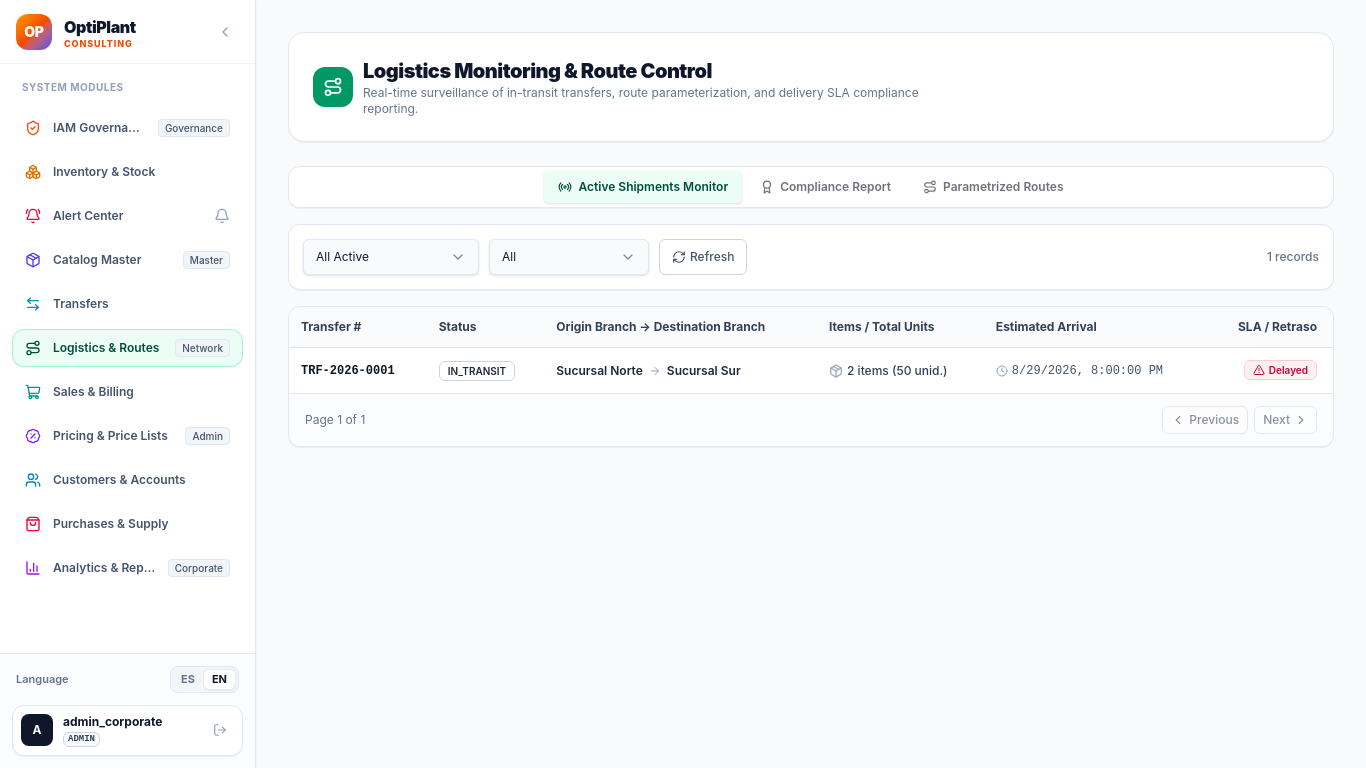
Test case: LogisticsDashboard Component Tests › displays Parametrized Routes tab for ADMIN user (CU-LOG-01)
Click the tab "Parametrized Routes" at point(993, 187), box [909, 171, 1078, 203]
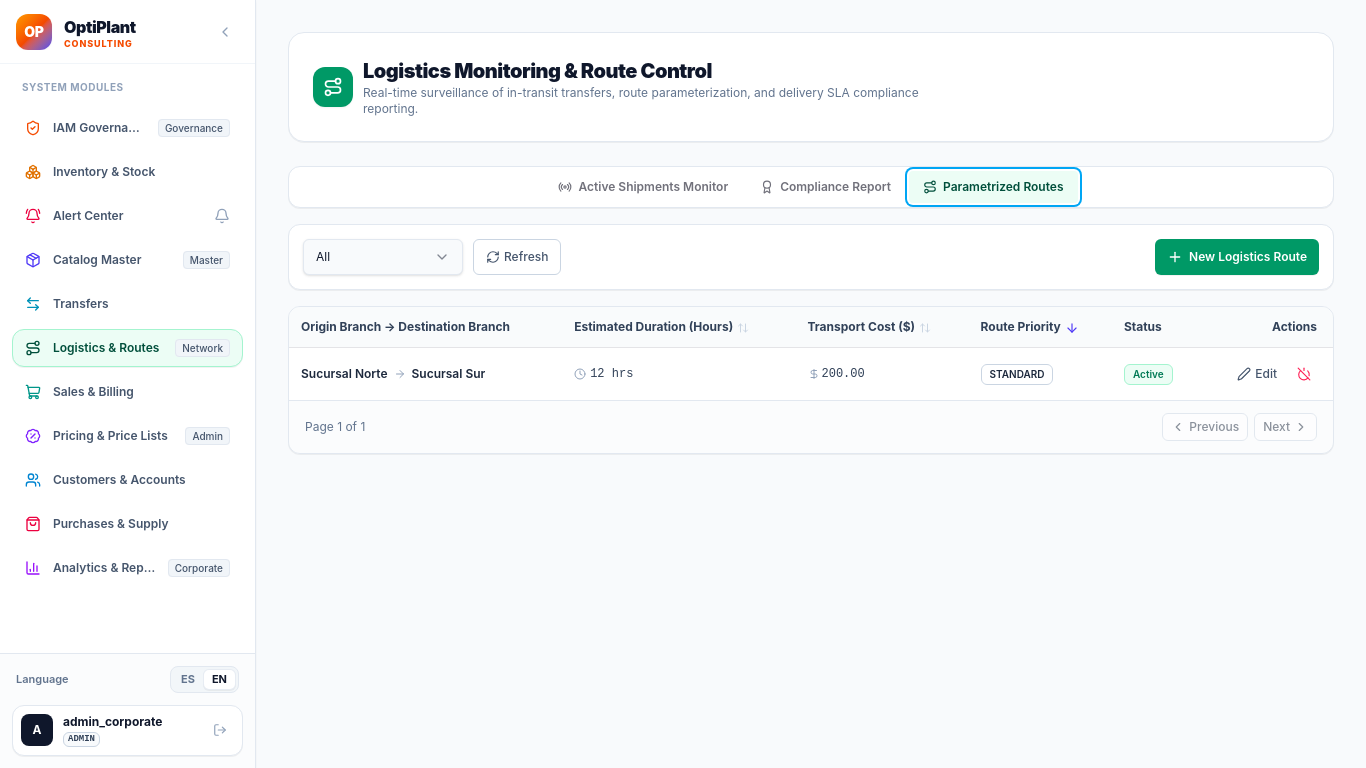
Now the button "New Logistics Route" is shown, box [1155, 239, 1319, 275]
